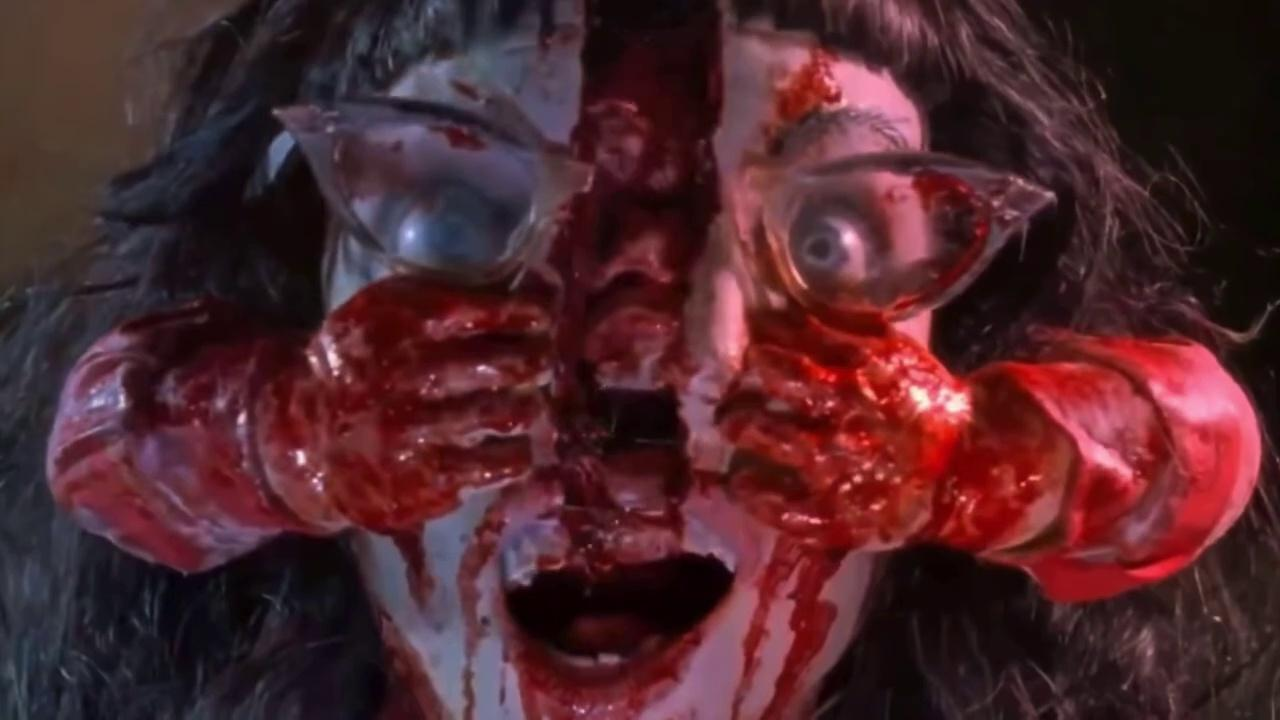Fire: (46, 4, 1265, 718)
